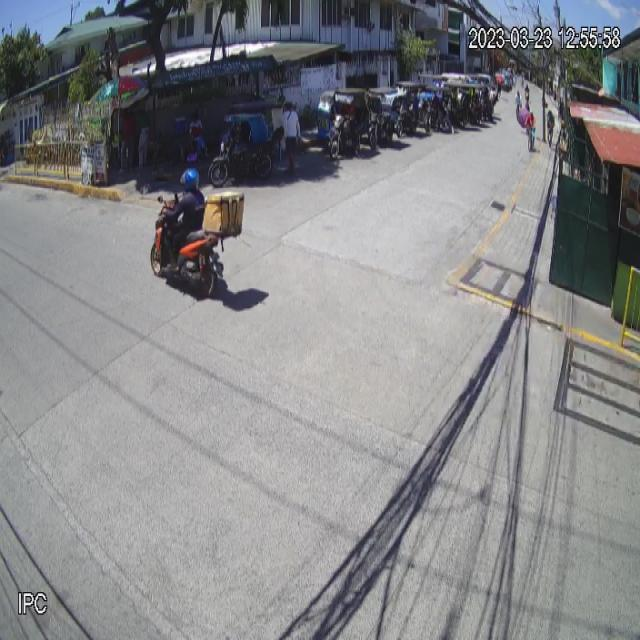Motorcycle: (149, 189, 245, 300)
